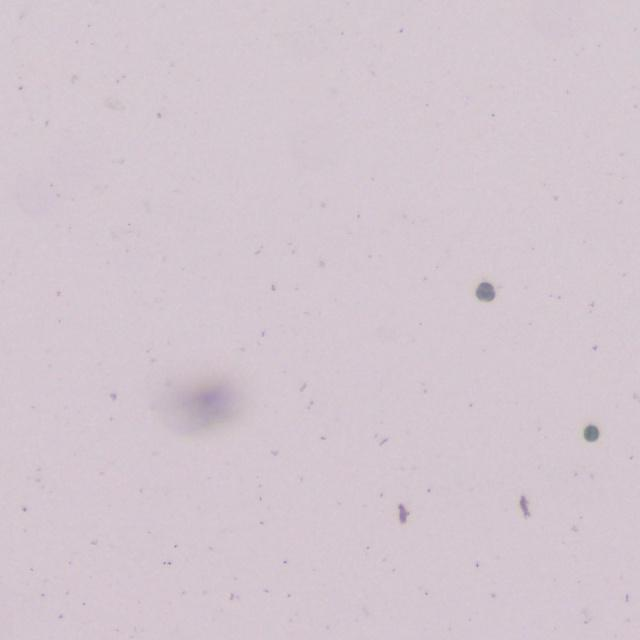non_viable: (476, 282, 495, 301), (583, 424, 599, 441)
